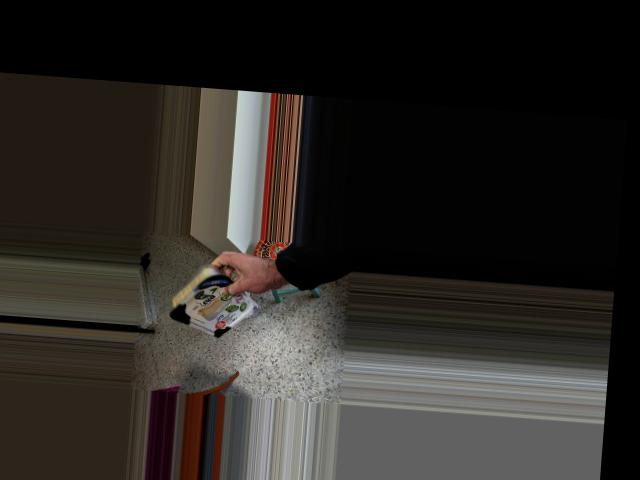cheese: (167, 239, 253, 350)
